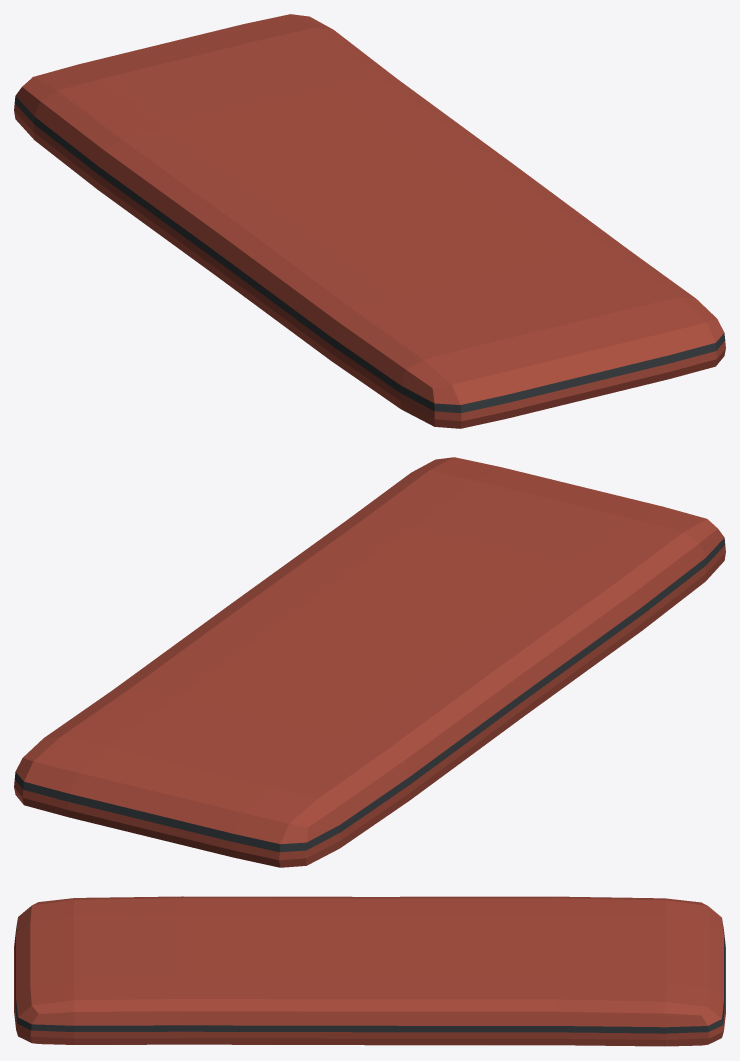
Rendered from SleepingBag_02.fbx.
3 renders of one model, top to bottom at view 1: azimuth 30°, elevation 25°; view 2: azimuth 150°, elevation 25°; view 3: azimuth 270°, elevation 25°, orthographic. The views are drawn at different scales.
Parts seen in each view (by area): view 1: SleepingBag_02; view 2: SleepingBag_02; view 3: SleepingBag_02.
Part boxes in pixels (<box>): SleepingBag_02: <box>14,14,725,428</box>; SleepingBag_02: <box>14,457,725,867</box>; SleepingBag_02: <box>14,896,725,1046</box>.
Size of the model in its own units: 80.86 by 12.46 by 200.
